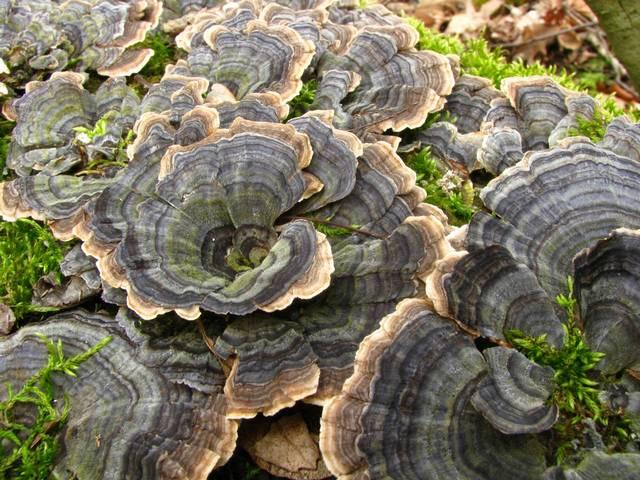Non-edible Mushroom: (1, 1, 638, 478), (113, 125, 323, 320)
